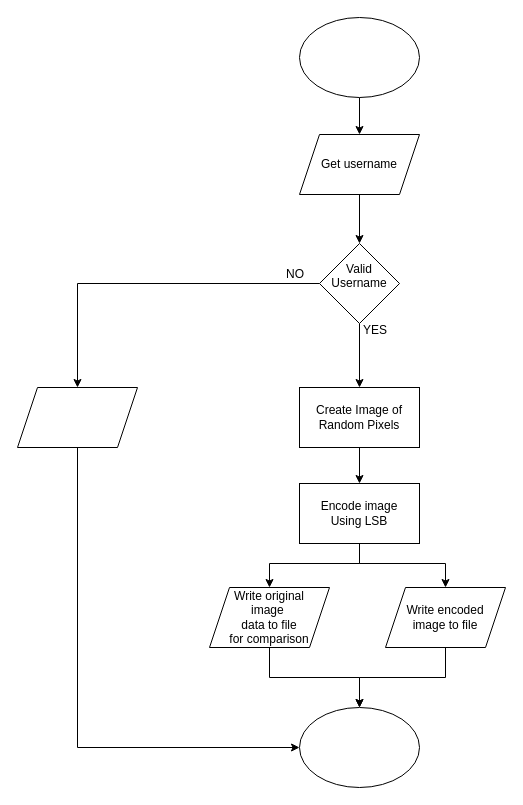
The diagram is 523 pixels wide and 805 high, and some of its shapes have lost their labels. Each missing label, with the box of its shape:
Display Error Message: (16, 386, 138, 448)
End: (298, 706, 420, 788)
Start: (298, 16, 420, 98)
